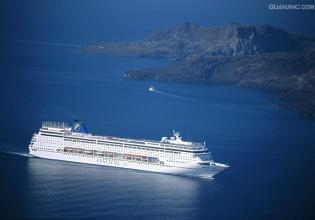youlun: (28, 114, 225, 183)
